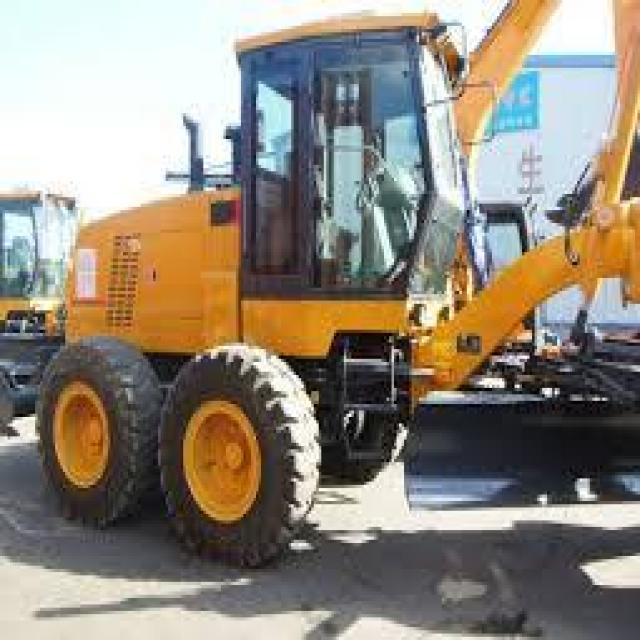Grader: (45, 26, 638, 578)
